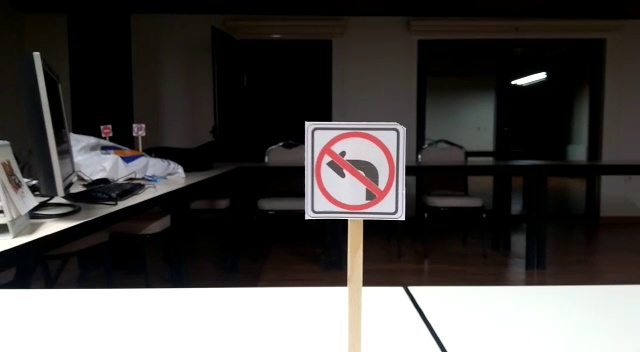sola_donulmez: (313, 126, 402, 209)
